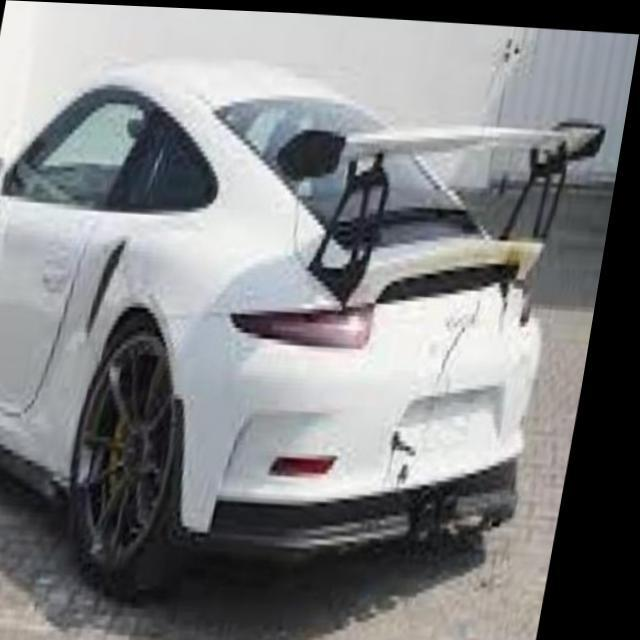crack: (442, 301, 488, 386), (396, 418, 435, 492)
scratch: (497, 276, 517, 334)
